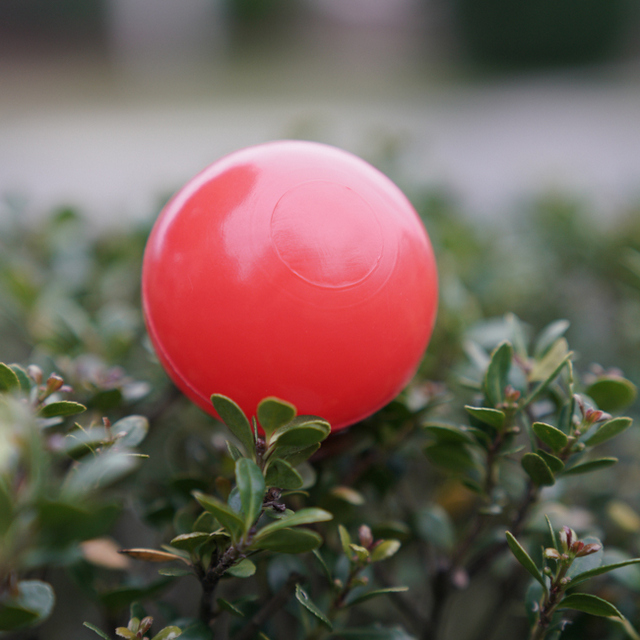Ball: (139, 142, 435, 438)
